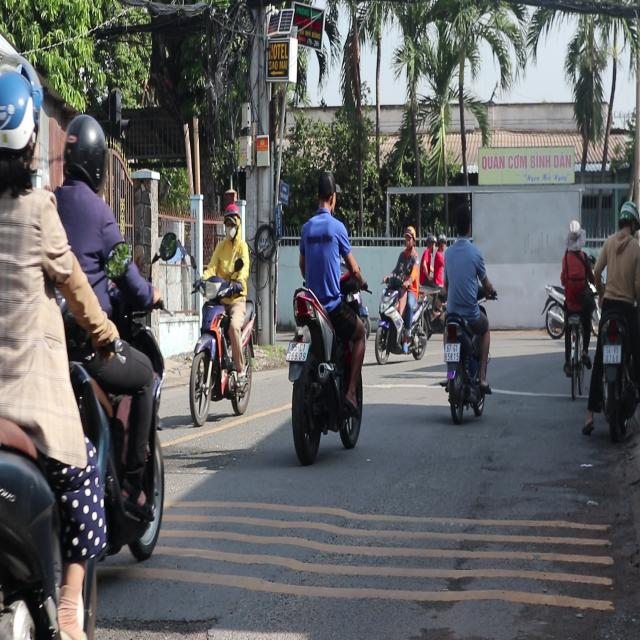helmet: (0, 62, 41, 201), (61, 113, 108, 195), (616, 200, 638, 236), (221, 201, 241, 239)
licenseplate: (31, 110, 170, 602), (0, 67, 112, 625), (285, 166, 368, 463), (187, 200, 257, 425), (438, 199, 493, 421), (590, 198, 639, 438)
motorcyclist: (314, 169, 337, 214), (451, 201, 472, 240)
nohelmet: (286, 340, 308, 360), (603, 343, 620, 363), (444, 342, 459, 361)
